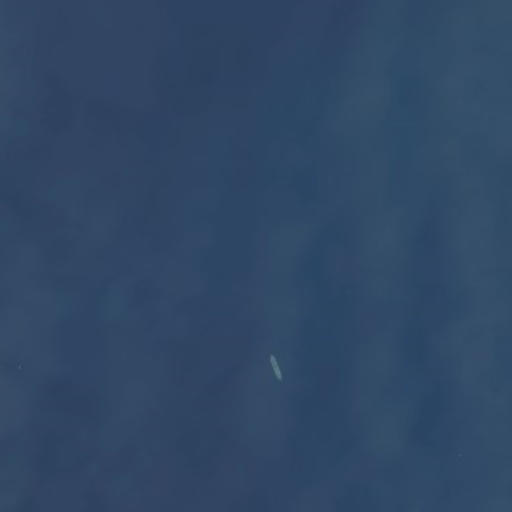ship: (268, 351, 286, 384)
